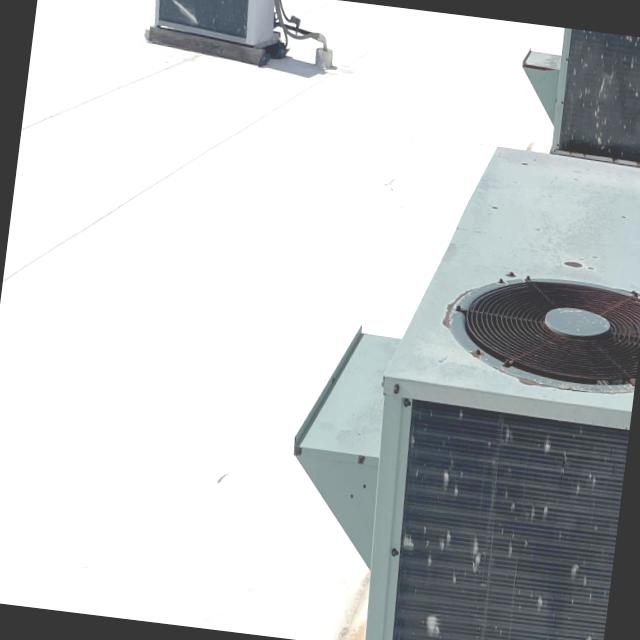RTU: (267, 113, 640, 640), (508, 22, 640, 174)
